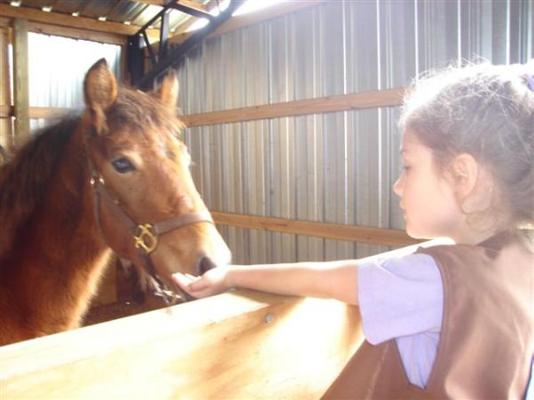person: (170, 63, 534, 400)
